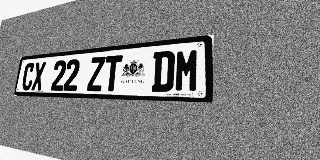2: (63, 59, 80, 91), (51, 60, 67, 91)
C: (21, 63, 35, 90)
D: (151, 50, 175, 92)
M: (174, 48, 200, 92)
T: (103, 55, 123, 91)
X: (31, 62, 46, 90)
Z: (87, 56, 106, 91)
